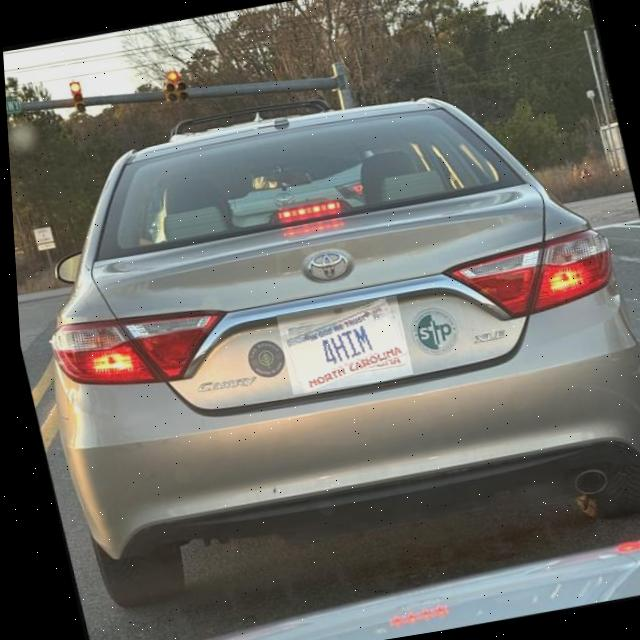LicensePlate: (278, 298, 405, 393)
